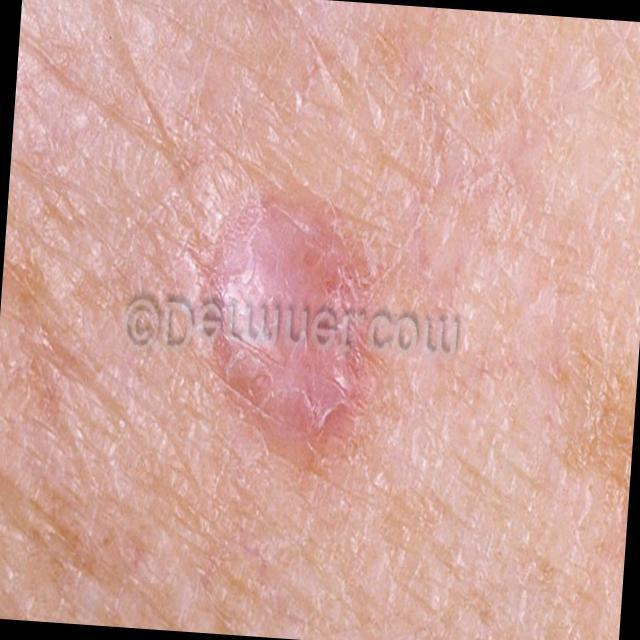Eczema: (193, 180, 389, 478)
